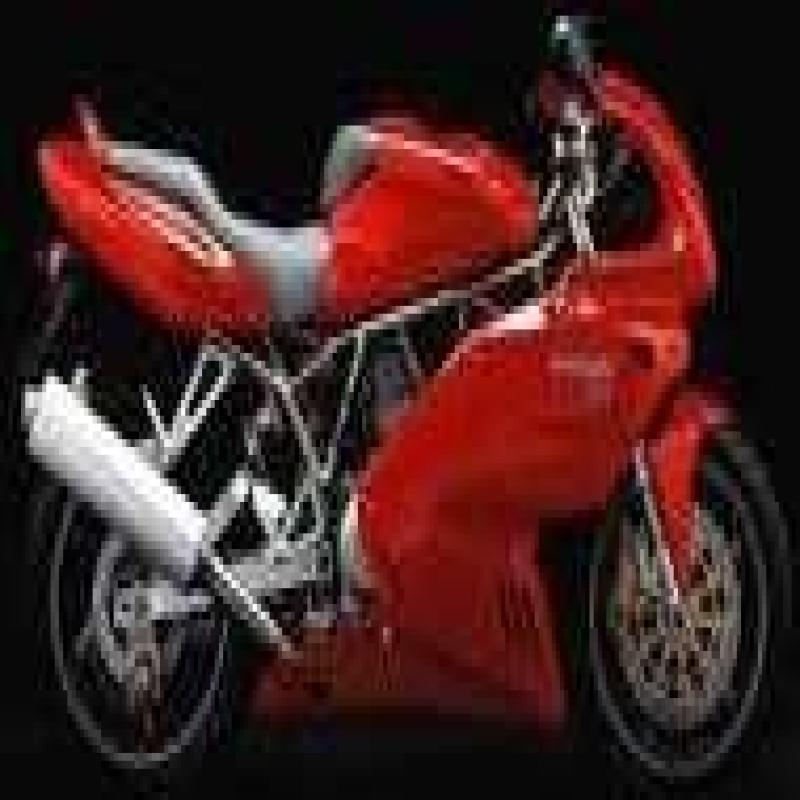bike: (14, 30, 800, 800)
